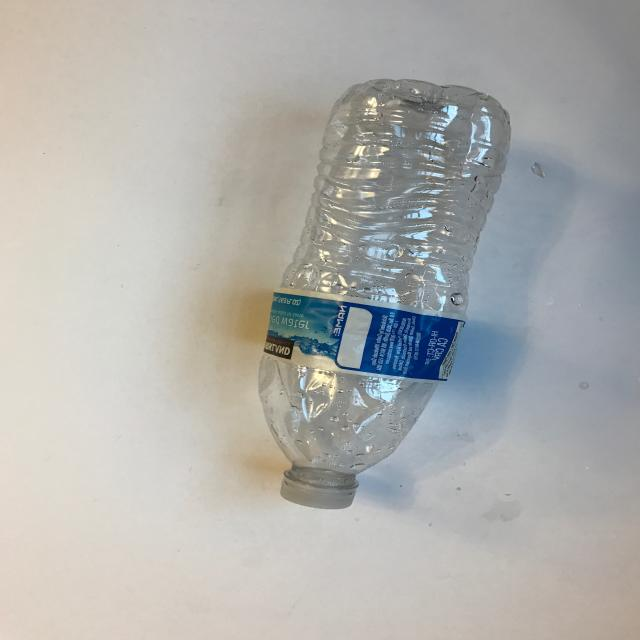plastic: (257, 77, 513, 509)
